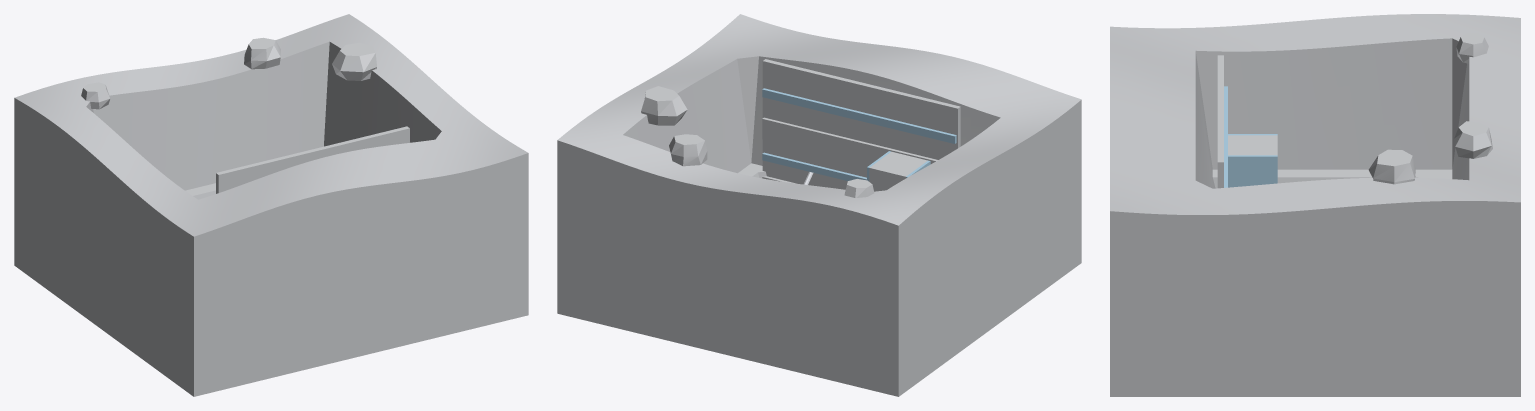
File: backcountry-snowboarding-and-avalanche-safety-snow-pit-79f289ff__18950.glb
The picture shows the model from 3 angles, left to right: view 1: azimuth 30°, elevation 25°; view 2: azimuth 150°, elevation 25°; view 3: azimuth 270°, elevation 25°; orthographic projection. The views are drawn at different scales.
Visible parts, largest first — view 1: snow-pit-wall; view 2: snow-pit-wall; view 3: snow-pit-wall.
Boxes of the visible parts, box(x1,y1,x2,y2) form: snow-pit-wall: box(14, 14, 528, 396); snow-pit-wall: box(557, 14, 1081, 396); snow-pit-wall: box(1110, 14, 1520, 396).
Size of the model in its own units: 2.8 by 1.49 by 2.6.
